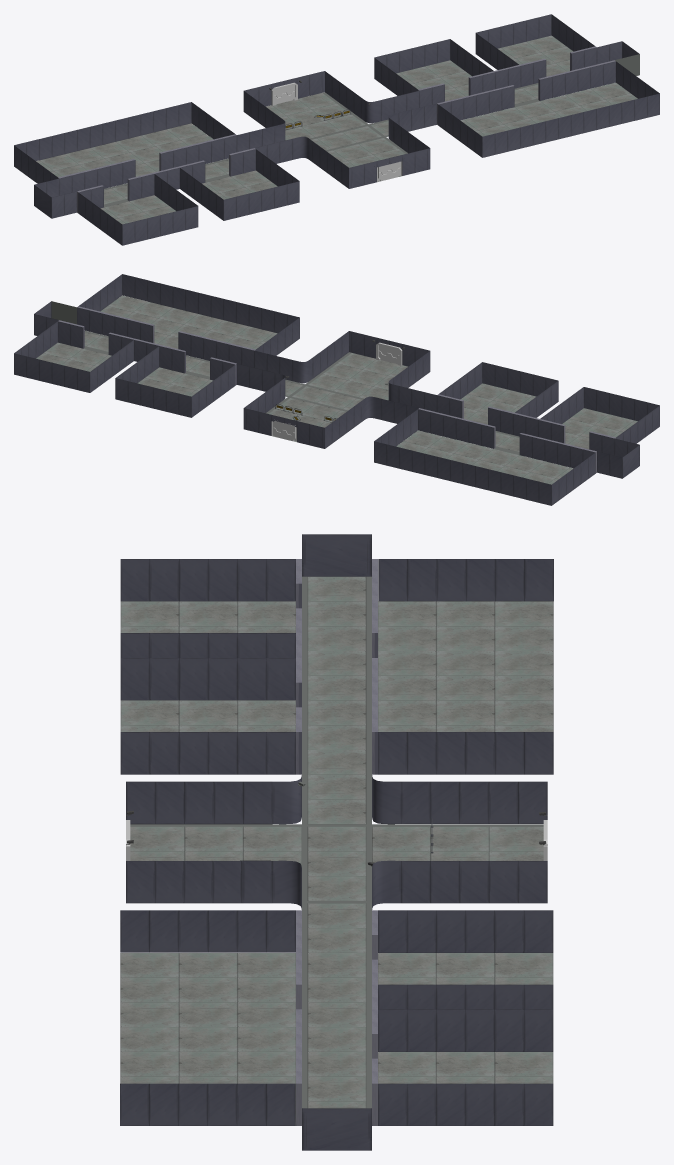
The model's file is Greybox_02.fbx.
3 renders of one model, top to bottom at view 1: azimuth 30°, elevation 25°; view 2: azimuth 150°, elevation 25°; view 3: azimuth 270°, elevation 25°, orthographic. The views are drawn at different scales.
Visible parts, largest first — view 1: polySurface132, polySurface53, pCube287, pPlane188, pPlane185, pPlane214, pPlane213, Middle, pPlane35, pPlane226, Wall37, pPlane47 (+21 smaller); view 2: polySurface52, polySurface134, pCube287, pPlane113, pPlane250, Middle, Wall29, pPlane135, pPlane107, pPlane202, pPlane48, pPlane41 (+21 smaller); view 3: pCube148, pCube287, Left, pPlane240, pPlane237, pPlane218, pPlane207, pPlane29, pPlane27, pPlane233, pPlane199, pPlane25 (+143 smaller).
Part boxes in pixels (left/top/right/bottom): polySurface132: left=292, top=136, right=312, bottom=161; polySurface53: left=361, top=98, right=381, bottom=123; pCube287: left=34, top=185, right=51, bottom=218; pPlane188: left=464, top=113, right=503, bottom=130; pPlane185: left=540, top=95, right=579, bottom=111; pPlane214: left=65, top=148, right=104, bottom=164; pPlane213: left=141, top=129, right=180, bottom=146; Middle: left=317, top=132, right=356, bottom=148; pPlane35: left=301, top=120, right=340, bottom=137; pPlane226: left=501, top=41, right=540, bottom=58; Wall37: left=90, top=142, right=129, bottom=158; pPlane47: left=359, top=138, right=397, bottom=154; polySurface52: left=292, top=358, right=312, bottom=383; polySurface134: left=361, top=396, right=381, bottom=421; pCube287: left=622, top=445, right=639, bottom=478; pPlane113: left=158, top=308, right=197, bottom=324; pPlane250: left=505, top=455, right=544, bottom=471; Middle: left=317, top=392, right=356, bottom=408; Wall29: left=468, top=383, right=507, bottom=399; pPlane135: left=209, top=320, right=248, bottom=336; pPlane107: left=108, top=295, right=147, bottom=311; pPlane202: left=429, top=436, right=468, bottom=453; pPlane48: left=333, top=380, right=372, bottom=397; pPlane41: left=322, top=363, right=361, bottom=380; pCube148: left=302, top=1108, right=371, bottom=1150; pCube287: left=302, top=534, right=371, bottom=576; Left: left=307, top=799, right=366, bottom=824; pPlane240: left=307, top=700, right=366, bottom=725; pPlane237: left=307, top=601, right=366, bottom=626; pPlane218: left=120, top=601, right=179, bottom=626; pPlane207: left=120, top=700, right=179, bottom=725; pPlane29: left=307, top=977, right=366, bottom=1002; pPlane27: left=307, top=1076, right=366, bottom=1101; pPlane233: left=307, top=576, right=366, bottom=601; pPlane199: left=307, top=774, right=366, bottom=799; pPlane25: left=307, top=675, right=366, bottom=700.
Size of the model in its own units: 11600 by 407 by 3706.
